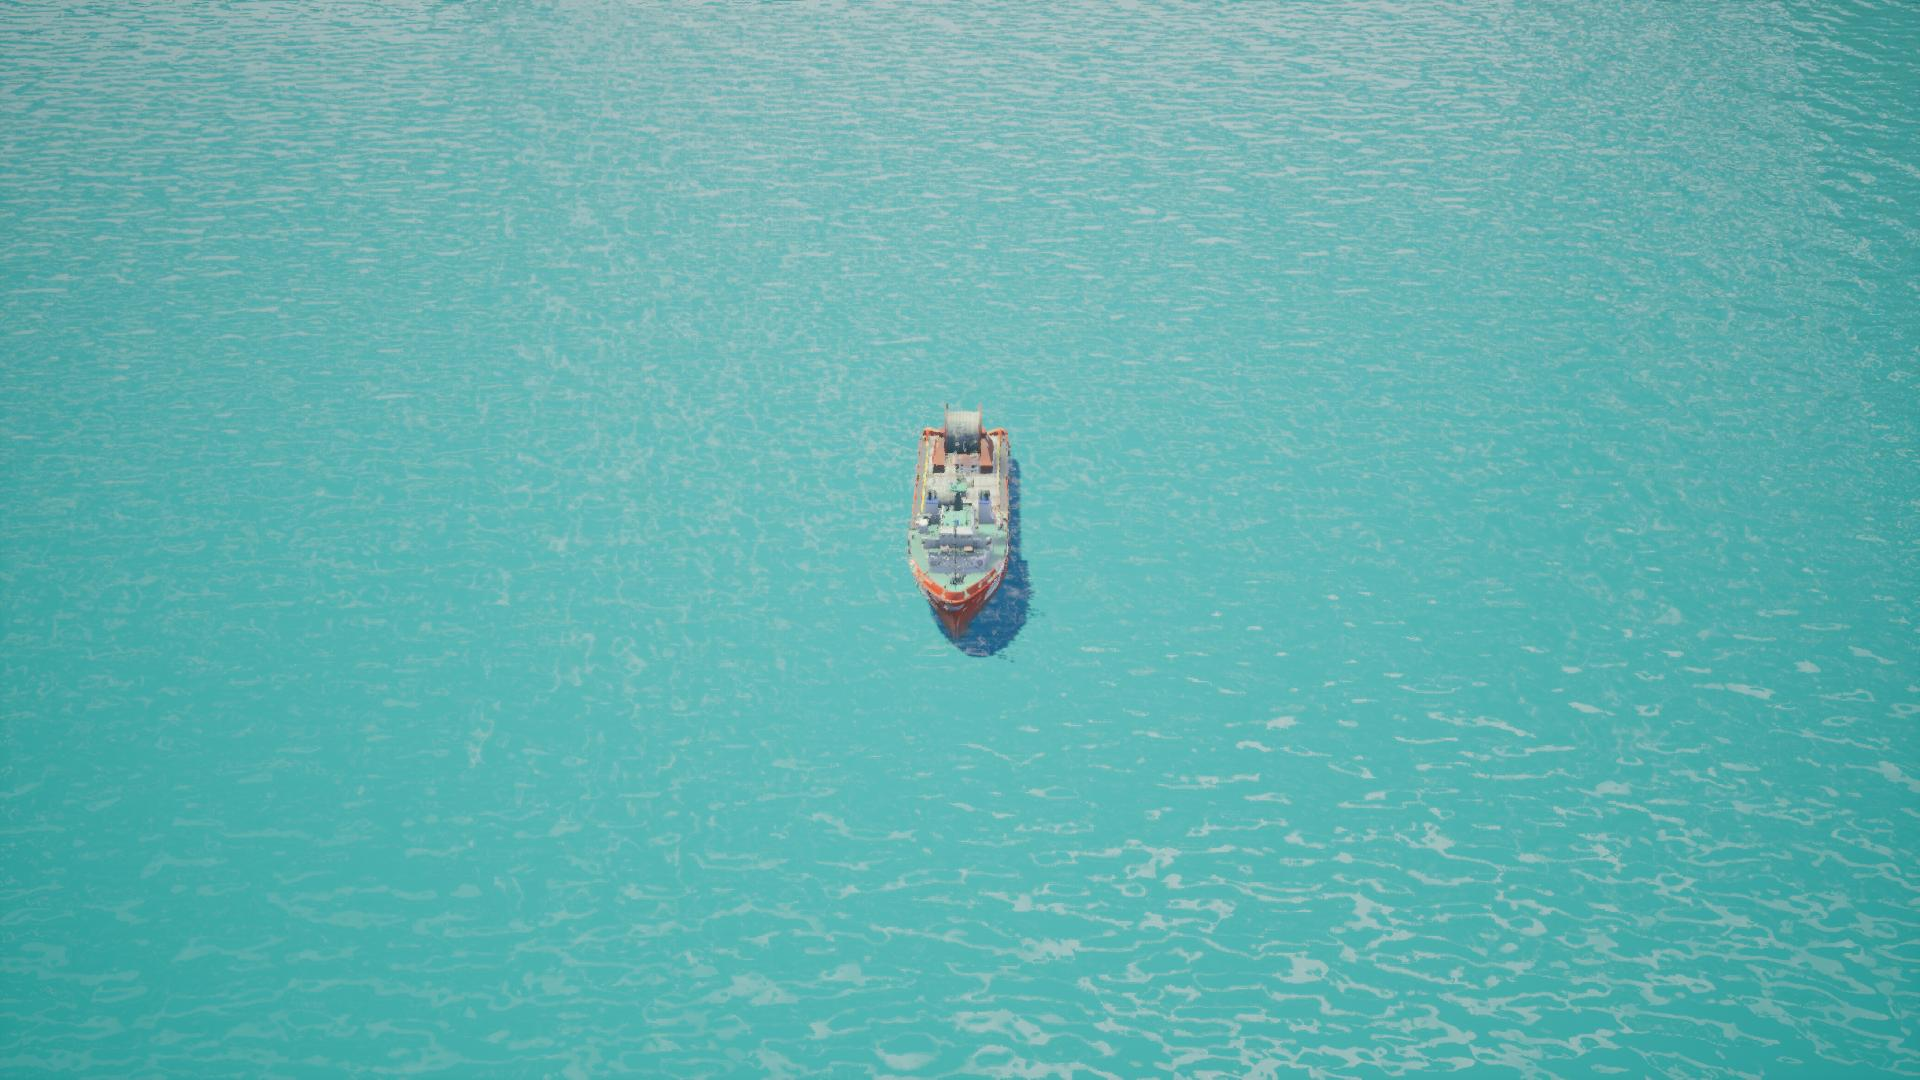Tug Boat: (870, 378, 1065, 675)
